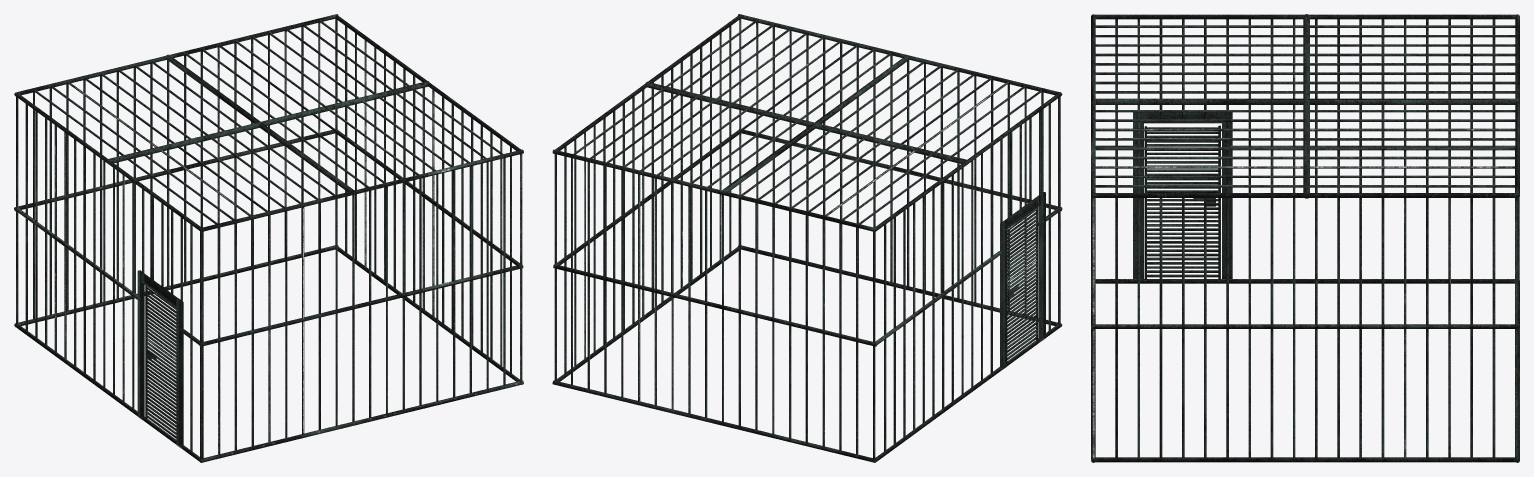
3 renders of one model, left to right at view 1: azimuth 30°, elevation 25°; view 2: azimuth 150°, elevation 25°; view 3: azimuth 270°, elevation 25°, orthographic. The views are drawn at different scales.
Parts seen in each view (by area): view 1: Cylinder.011_8; view 2: Cylinder.011_8; view 3: Cylinder.011_8.
Boxes of the visible parts, bbox=[...] form: Cylinder.011_8: bbox=[14, 14, 523, 462]; Cylinder.011_8: bbox=[552, 14, 1062, 462]; Cylinder.011_8: bbox=[1091, 14, 1519, 462].
Bounding box in the file's own units: 3.94 × 2.73 × 3.94.
Materials: 1 (1 with a texture image).
